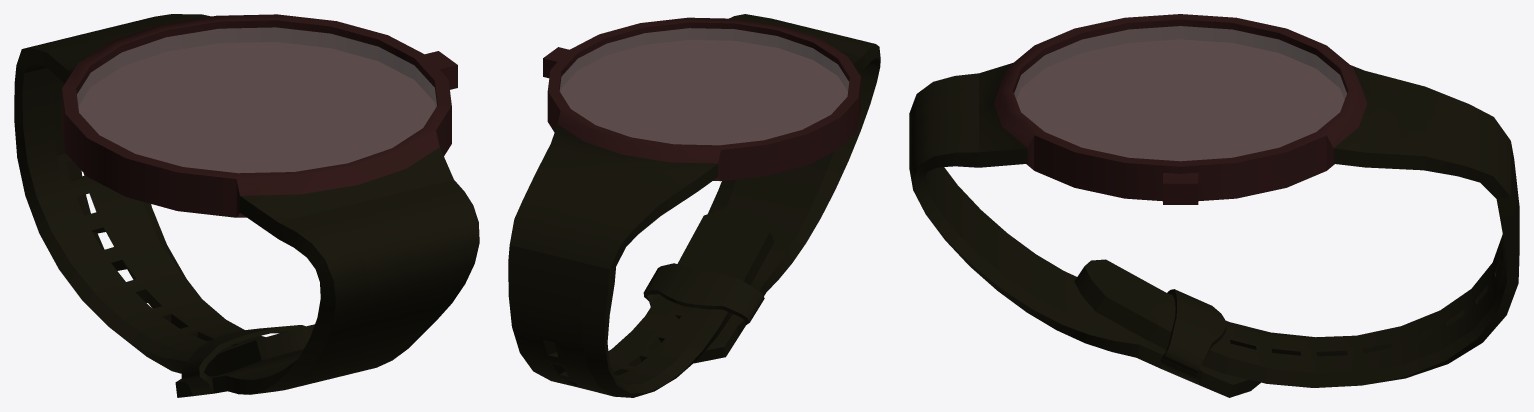
The model's file is relojweb.glb.
3 renders of one model, left to right at view 1: azimuth 30°, elevation 25°; view 2: azimuth 150°, elevation 25°; view 3: azimuth 270°, elevation 25°, orthographic. The views are drawn at different scales.
Visible parts, largest first — view 1: pCube8, pDisc1; view 2: pCube8, pDisc1; view 3: pCube8, pDisc1.
Boxes of the visible parts, <box> form: pCube8: <box>14,14,479,397</box>; pDisc1: <box>77,27,436,172</box>; pCube8: <box>508,14,880,397</box>; pDisc1: <box>560,28,848,144</box>; pCube8: <box>909,14,1519,397</box>; pDisc1: <box>1014,26,1346,160</box>.
Size of the model in its own units: 0.2406 by 0.2013 by 0.3821.
